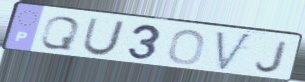3: (124, 24, 164, 63)
J: (253, 39, 292, 74)
O: (166, 28, 208, 66)
Q: (37, 15, 83, 52)
U: (79, 17, 128, 58)
V: (214, 30, 255, 73)
